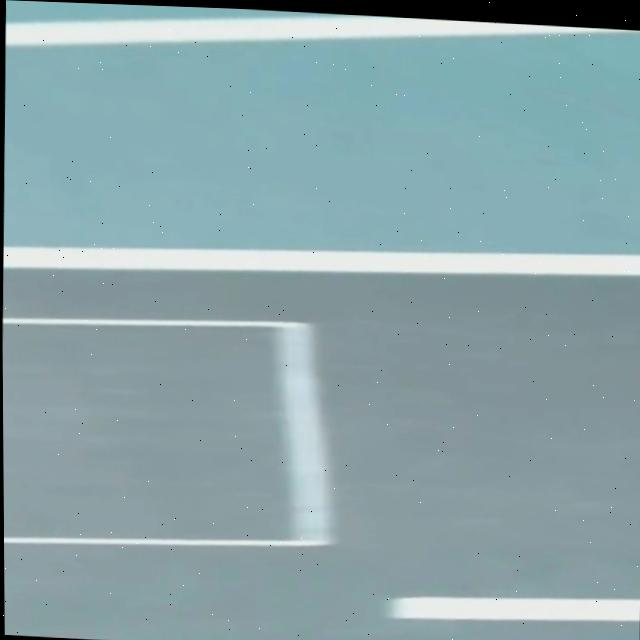center: (388, 595, 640, 619)
left: (3, 245, 640, 273)
